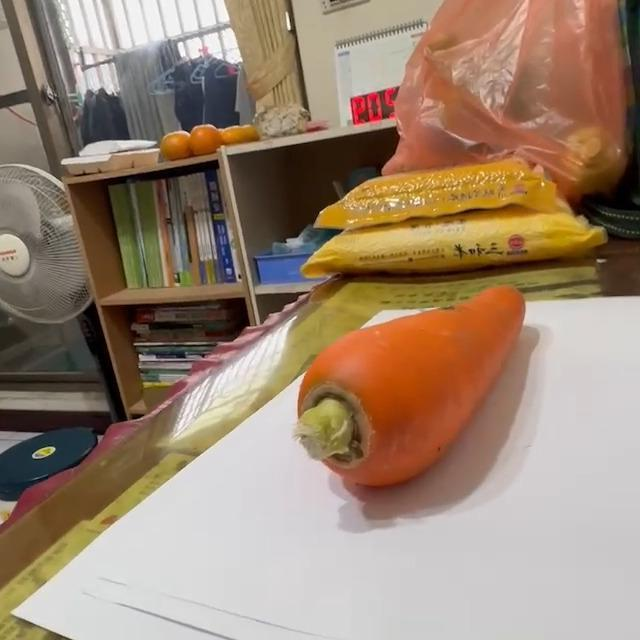carrot: (296, 285, 528, 491)
